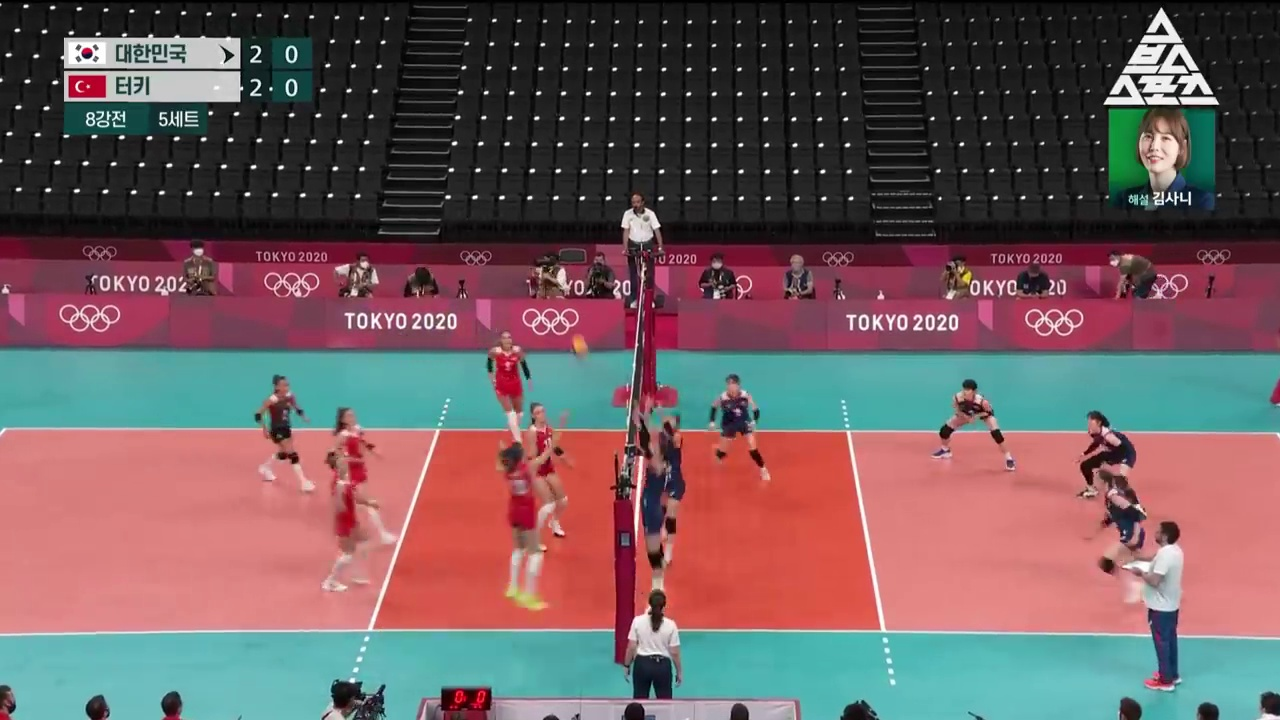ball: (573, 338, 588, 357)
player: (1083, 471, 1185, 604), (633, 402, 675, 613), (641, 392, 686, 568), (1074, 411, 1148, 517), (932, 379, 1016, 471), (709, 374, 771, 481)
player 1: (496, 431, 559, 610), (333, 408, 399, 544), (321, 452, 380, 591), (256, 375, 316, 491), (528, 402, 574, 550), (487, 330, 534, 451)
referee: (625, 588, 682, 699), (621, 194, 665, 308)
